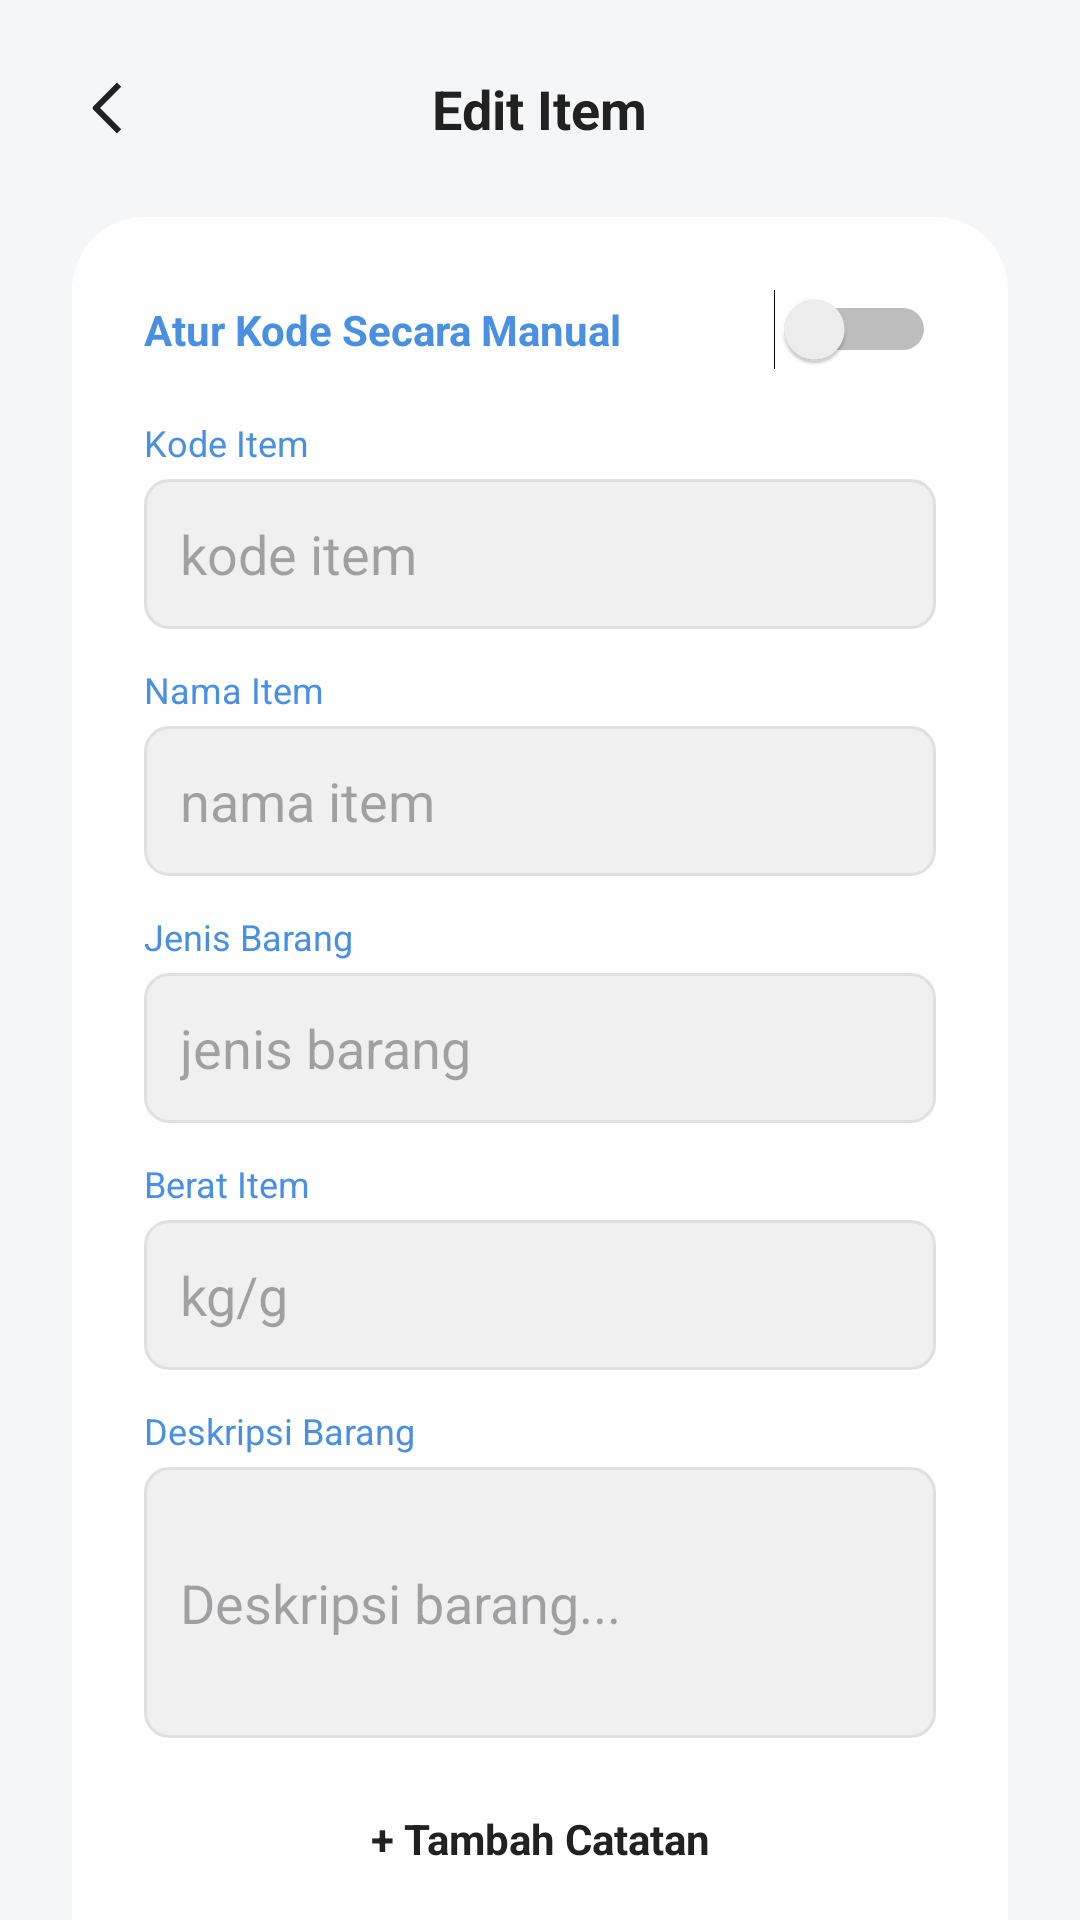

Icons on this 1080w x 1920h Android screen, each with its box as (x1, y1, x2, y2):
back: (92, 82, 121, 134)
